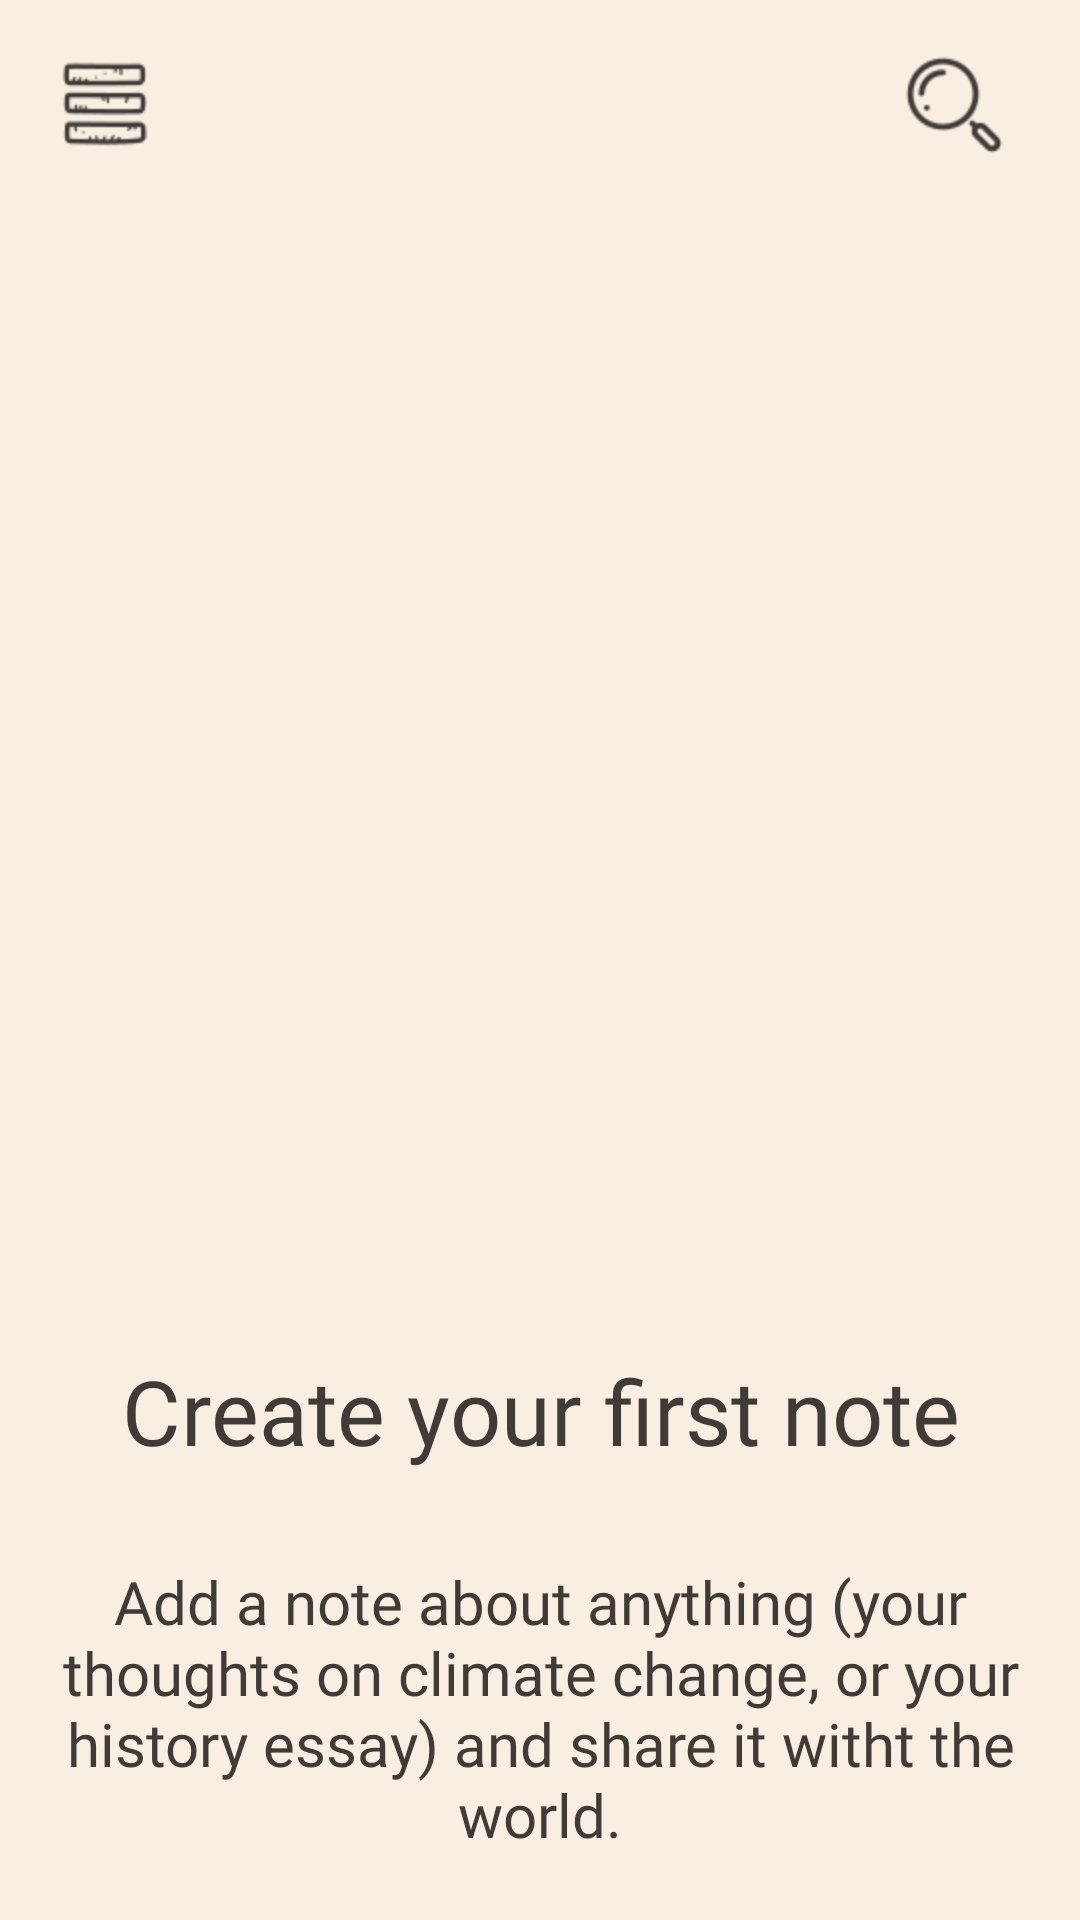

Icon click points for this 1080*1920 phone screenshot, format (x=x, y=y):
menu: (x=105, y=104)
